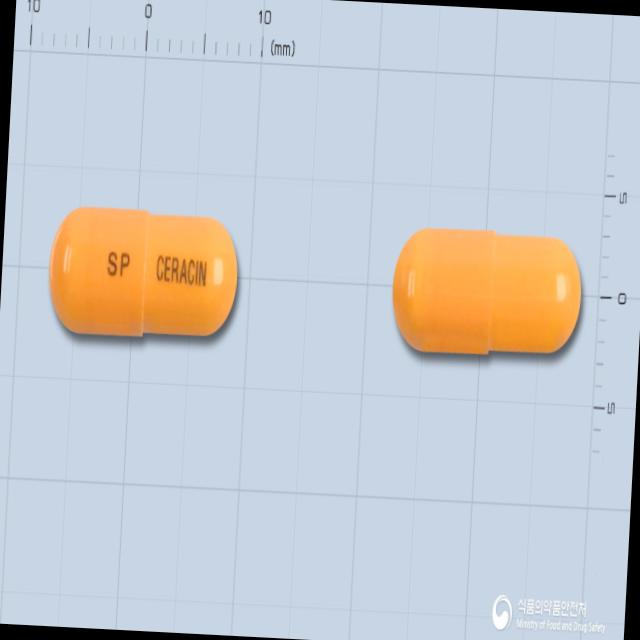Ceracin Cap: (42, 197, 246, 352)
